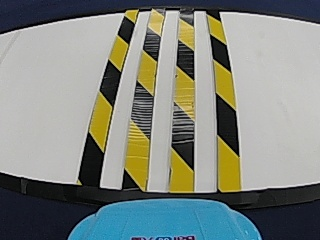bump: (79, 16, 246, 186)
